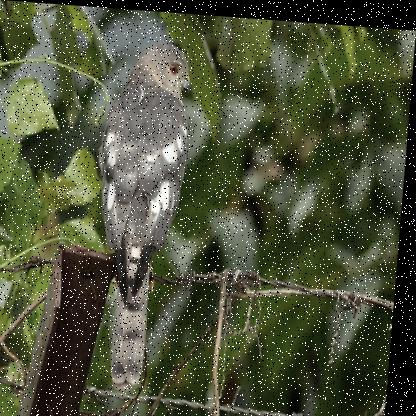Burung: (87, 37, 198, 391)
